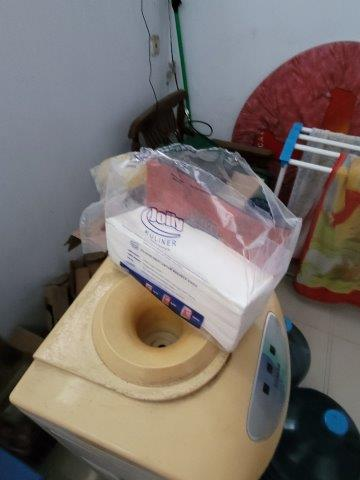plastik: (123, 144, 296, 274)
